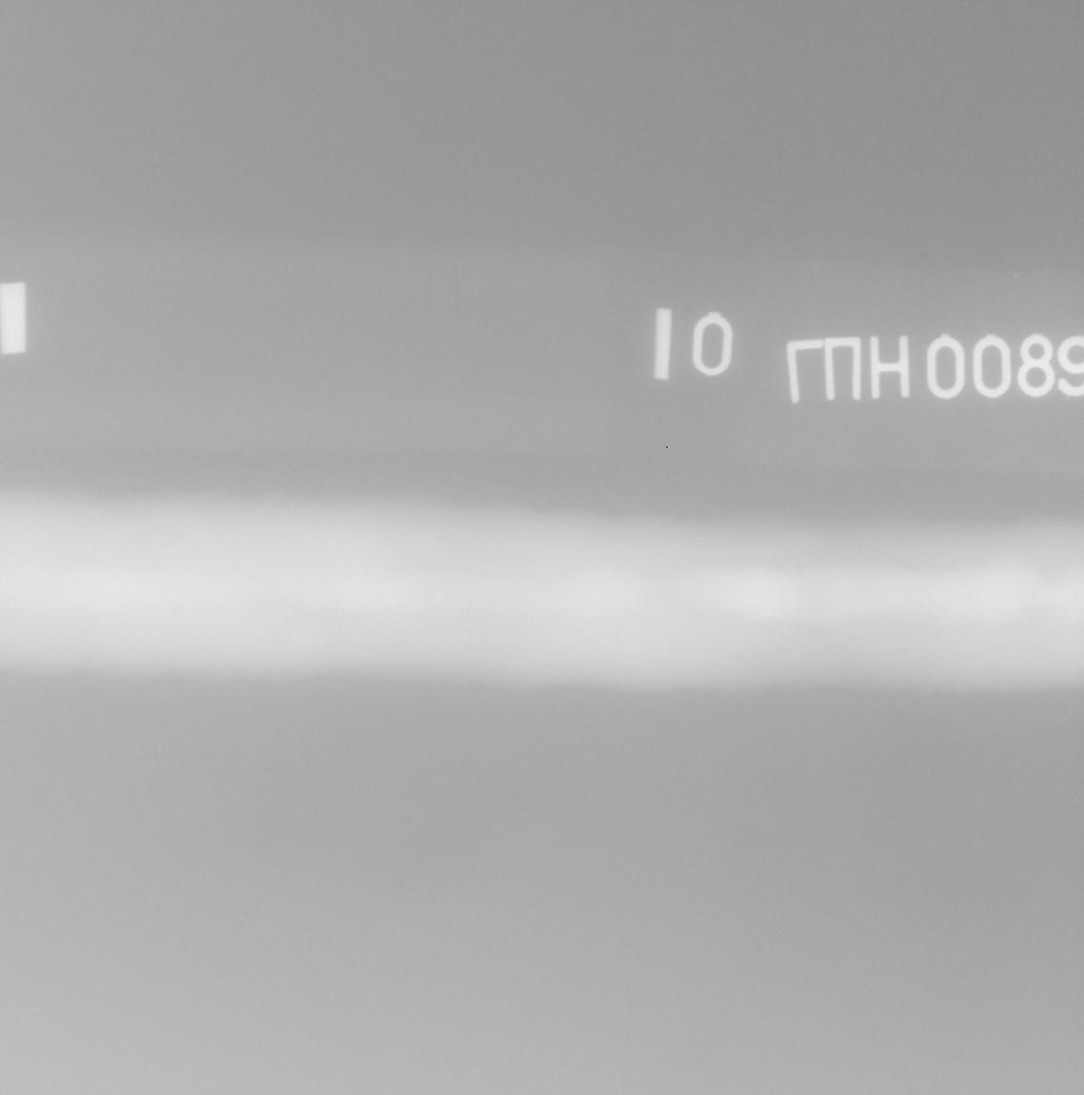Inclusion: (666, 595, 677, 599)
